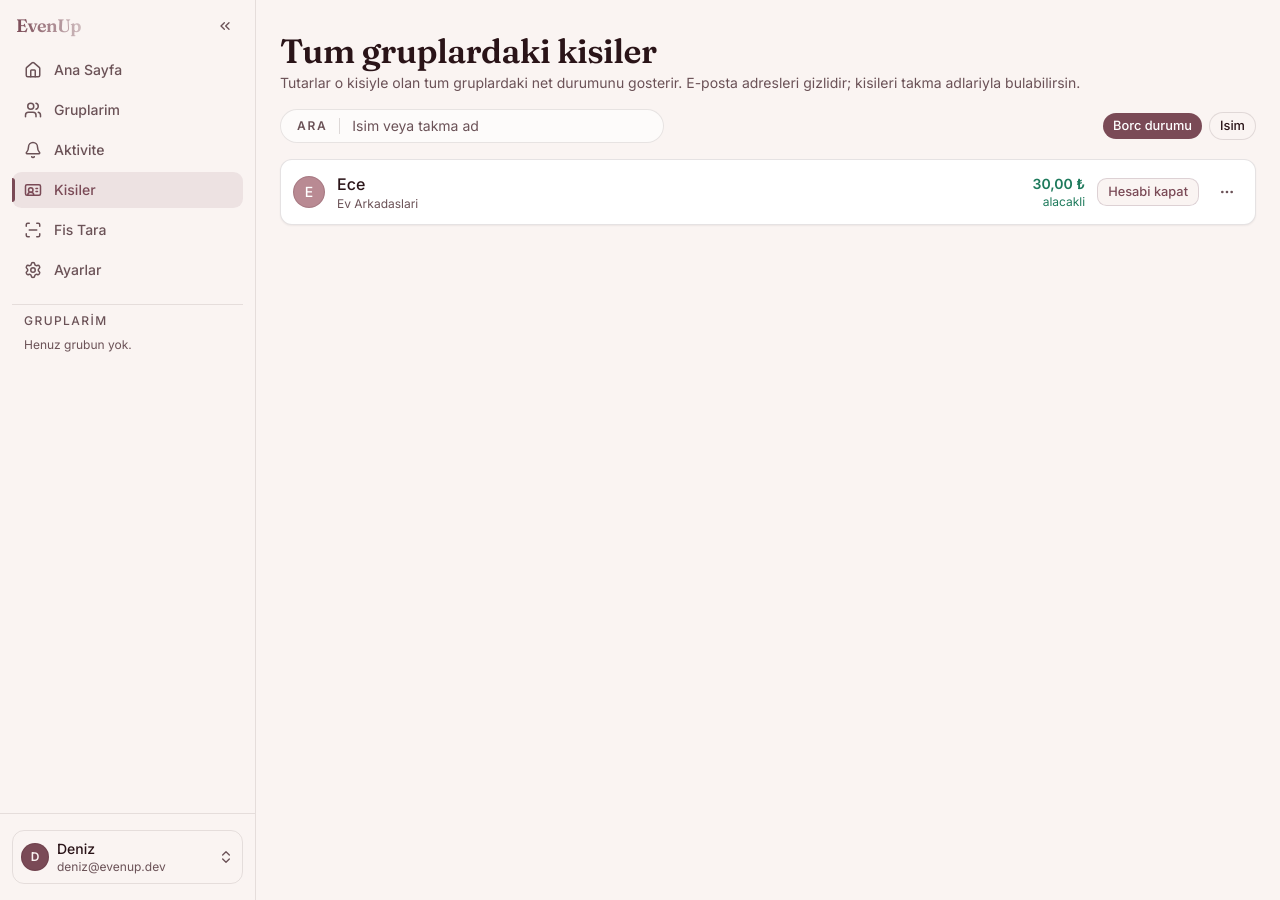
Test case: arama ve siralama › arama eslesmezse "eslesen kisi yok" gosterilir
Check: the text "Ece" is shown, box [337,172,365,196]
Type "yoktur-boyle-biri" into the field named "Kisi ara".
click(500, 126); type("yoktur-boyle-biri")  # box [352,116,647,136]
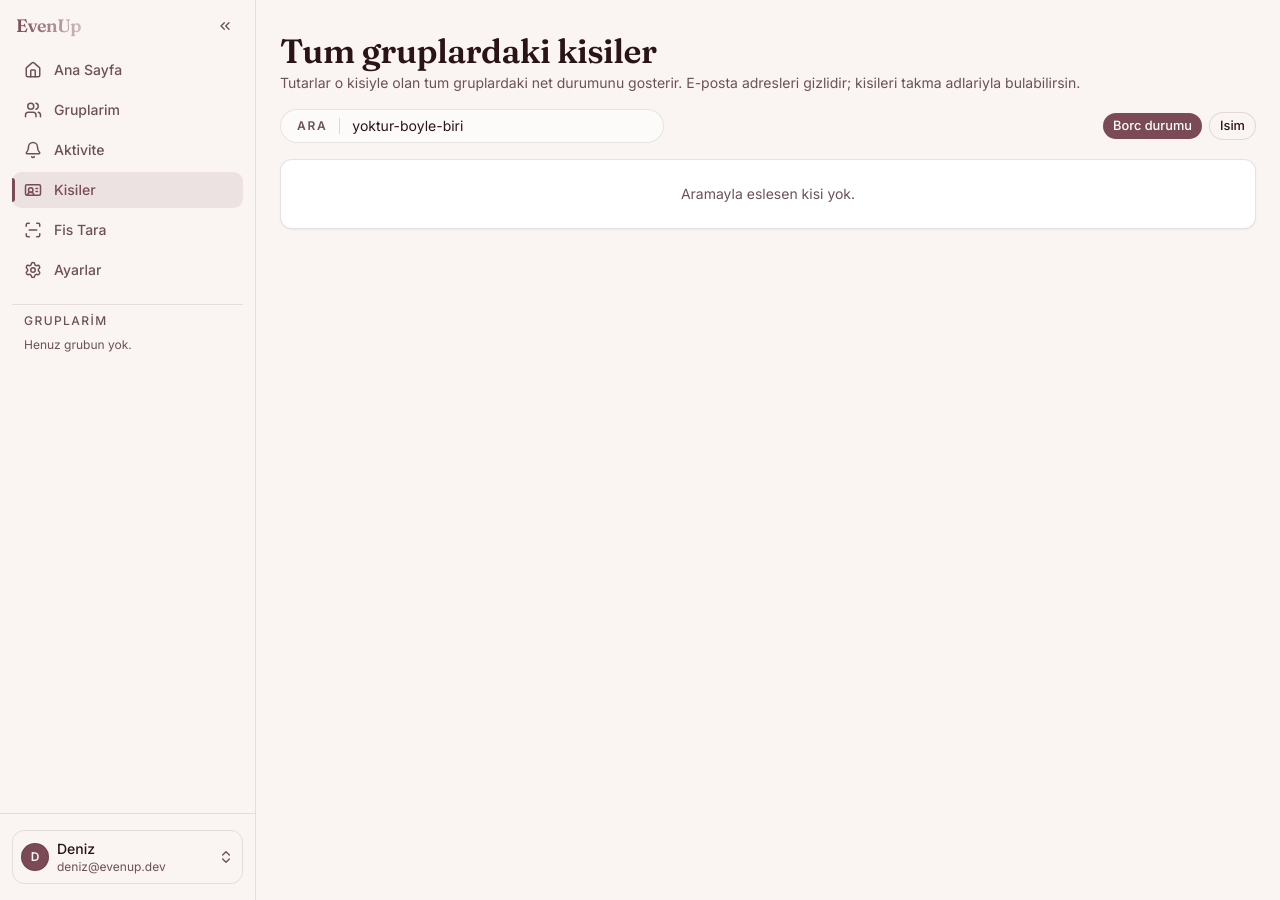
Check: the text "Aramayla eslesen kisi yok." is shown, box [280,159,1256,229]
